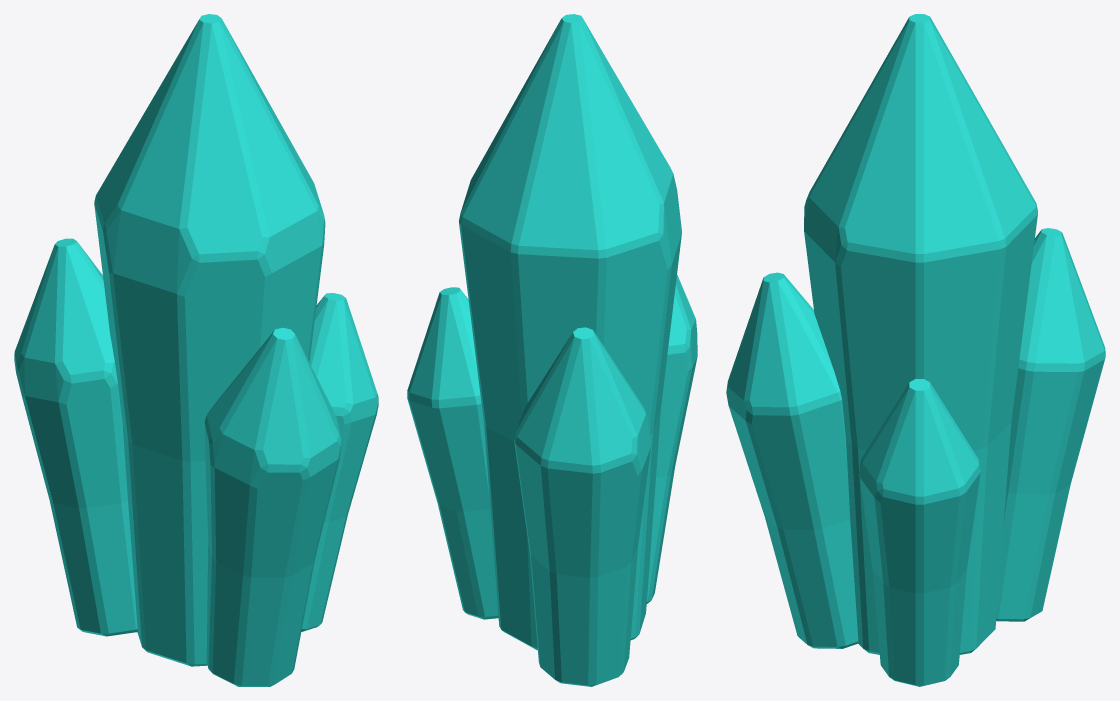
Rendered from CrystalTreefbx.fbx.
3 views of the same model, side by side, from view 1: azimuth 30°, elevation 25°; view 2: azimuth 150°, elevation 25°; view 3: azimuth 270°, elevation 25° (orthographic). The views are drawn at different scales.
Visible parts, largest first — view 1: Circle.005; view 2: Circle.005; view 3: Circle.005.
Boxes of the visible parts, bbox=[...] form: Circle.005: bbox=[14, 14, 378, 686]; Circle.005: bbox=[407, 14, 697, 686]; Circle.005: bbox=[726, 14, 1105, 686].
Size of the model in its own units: 1.72 by 3.54 by 1.97.
